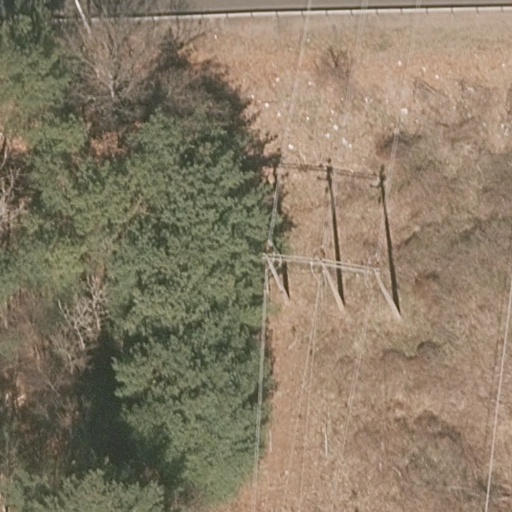DT: (261, 251, 403, 321)
